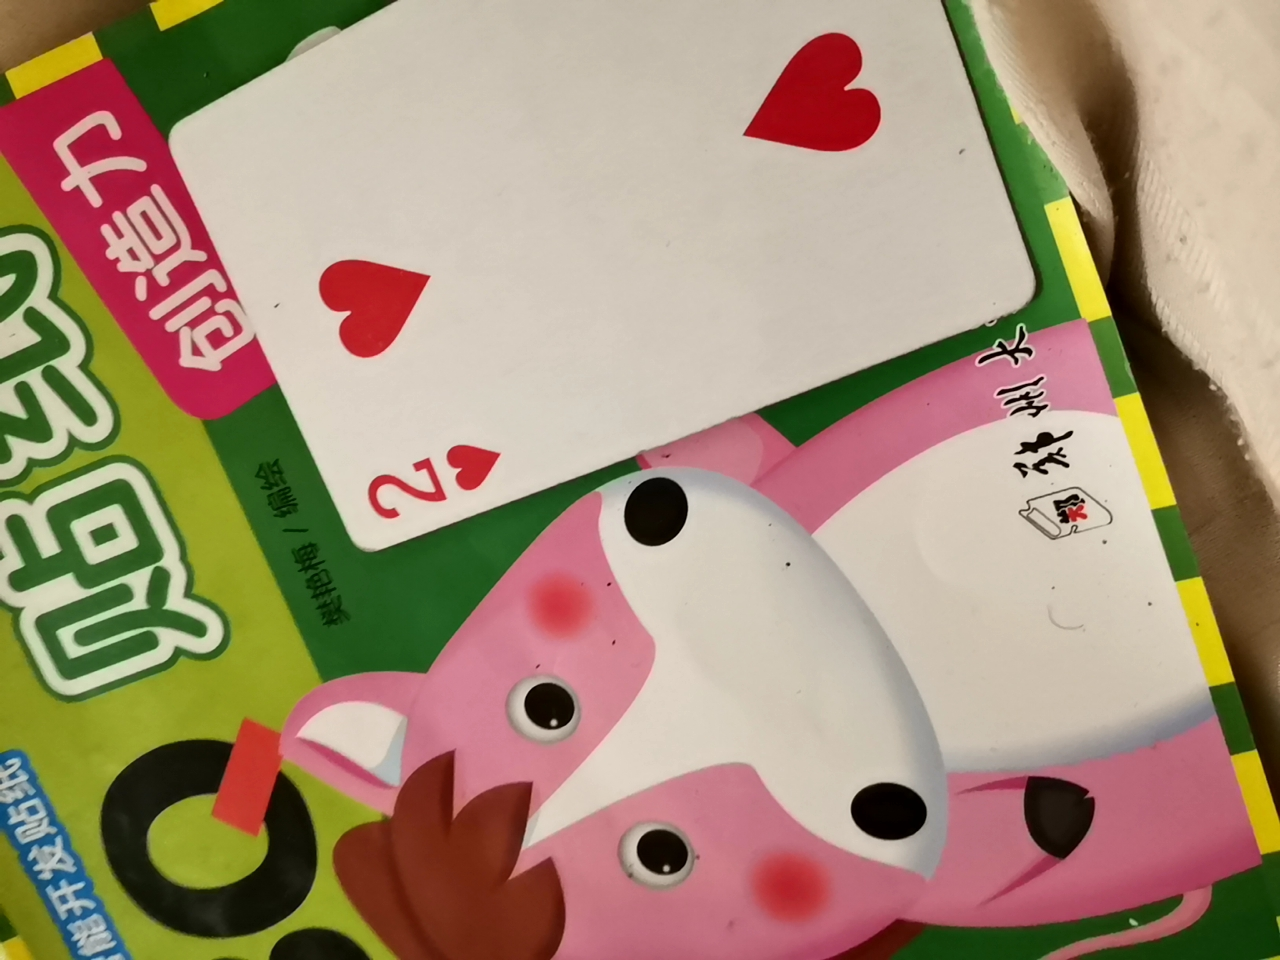hx 2: (134, 1, 1009, 564)
